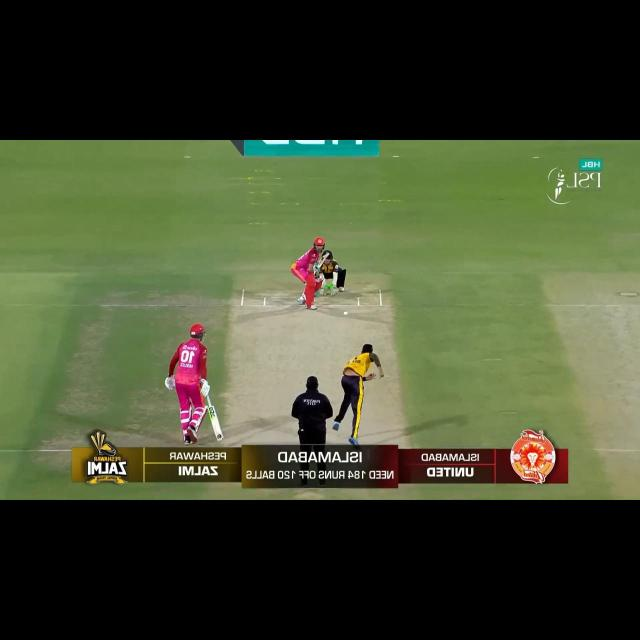bat: (206, 407, 226, 443), (317, 252, 330, 267)
toe: (214, 434, 223, 441), (325, 252, 330, 256)
